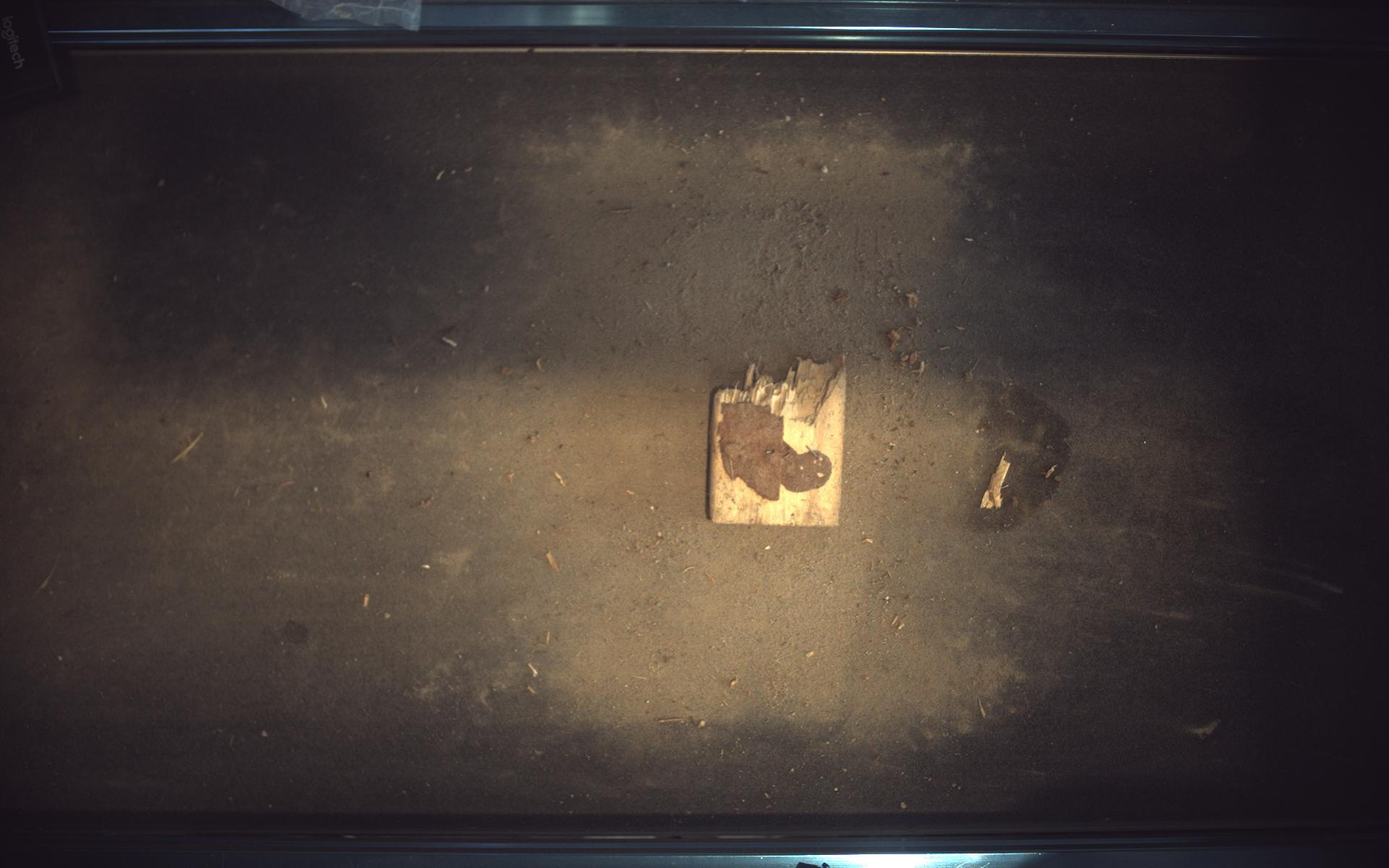wood: (711, 356, 848, 526)
